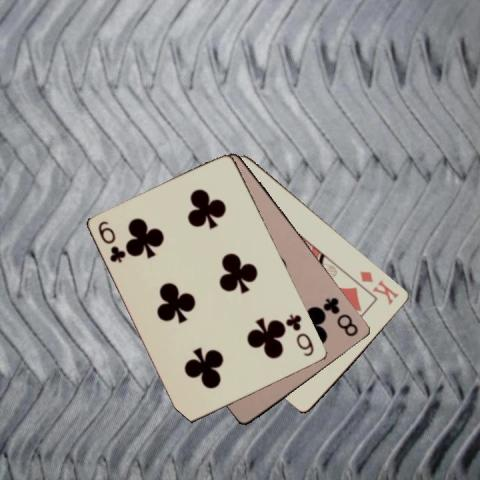6c: (283, 311, 316, 358), (96, 218, 128, 265)
8c: (321, 294, 360, 338)
Kd: (357, 268, 400, 307)
